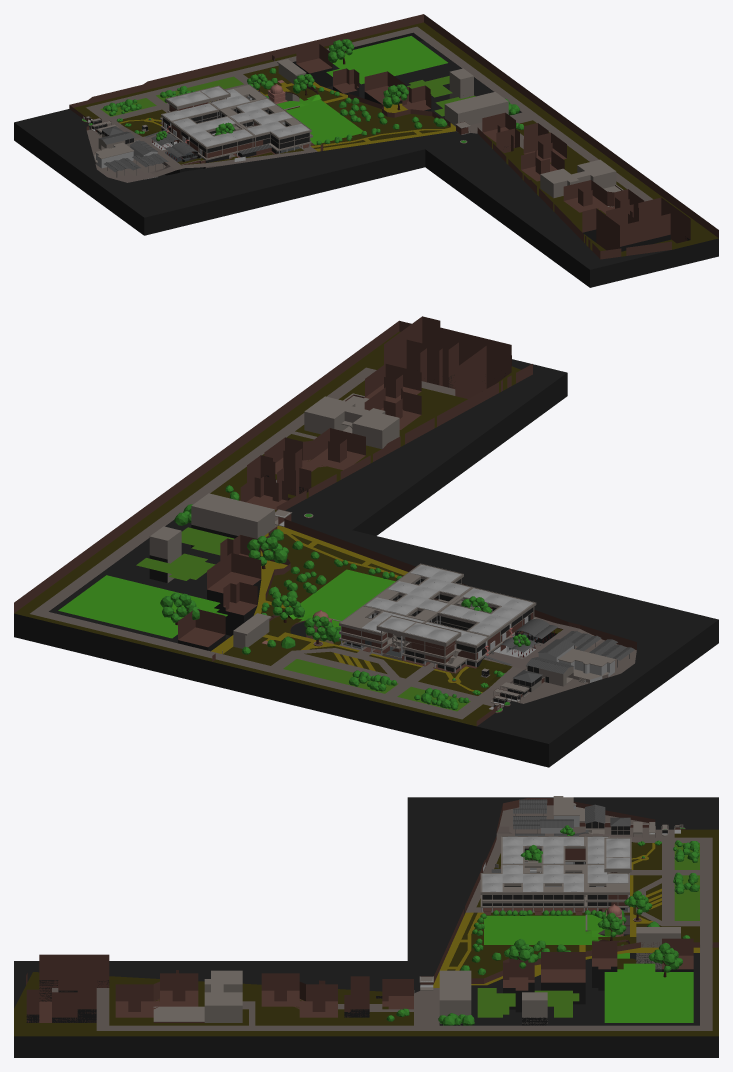
File: Insti_map_Final.glb
The picture shows the model from 3 angles, top to bottom: view 1: azimuth 30°, elevation 25°; view 2: azimuth 150°, elevation 25°; view 3: azimuth 270°, elevation 25°; orthographic projection. The views are drawn at different scales.
Parts seen in each view (by area): view 1: Plane.047, Plane.727, Plane.048, Plane.050, Plane.018, Plane.062, Plane.061, Plane.017, Plane.015, Plane.016, Plane.010, Plane.005 (+14 smaller); view 2: Plane.047, Plane.727, Plane.050, Plane.048, Plane.018, Plane.062, Plane.015, Plane.016, Plane.017, Plane.010, Plane.061, Plane.069 (+13 smaller); view 3: Plane.047, Plane.050, Plane.727, Plane.062, Plane.018, Plane.061, Plane.017, Plane.015, Plane.016, Plane.069, Plane.010, Plane.007 (+16 smaller).
Part boxes in pixels (x1,y1,x2,y2): Plane.047: (14, 22, 718, 287); Plane.727: (160, 84, 314, 162); Plane.048: (69, 14, 718, 259); Plane.050: (86, 26, 652, 201); Plane.018: (582, 197, 690, 250); Plane.062: (326, 36, 447, 84); Plane.061: (286, 99, 363, 144); Plane.017: (563, 180, 644, 213); Plane.015: (521, 132, 566, 181); Plane.016: (540, 159, 616, 197); Plane.010: (444, 92, 508, 126); Plane.005: (296, 44, 332, 73); Plane.047: (14, 331, 718, 767); Plane.727: (339, 563, 536, 673); Plane.050: (30, 367, 636, 719); Plane.048: (14, 320, 636, 725); Plane.018: (384, 316, 511, 398); Plane.062: (58, 575, 227, 638); Plane.015: (264, 428, 365, 474); Plane.016: (304, 396, 399, 448); Plane.017: (364, 364, 421, 429); Plane.010: (191, 493, 274, 538); Plane.061: (293, 569, 395, 620); Plane.069: (136, 527, 234, 580); Plane.047: (14, 797, 718, 1057); Plane.050: (52, 807, 712, 1030); Plane.727: (480, 836, 631, 915); Plane.062: (604, 963, 693, 1022); Plane.018: (26, 954, 109, 1022); Plane.061: (484, 915, 598, 944); Plane.017: (115, 973, 198, 1017); Plane.015: (261, 973, 337, 1017); Plane.016: (204, 970, 242, 1022); Plane.069: (477, 988, 579, 1017); Plane.010: (439, 970, 471, 1025); Plane.007: (541, 952, 585, 982).
Bounding box in the file's own units: 18.31 × 1.84 × 22.83.
